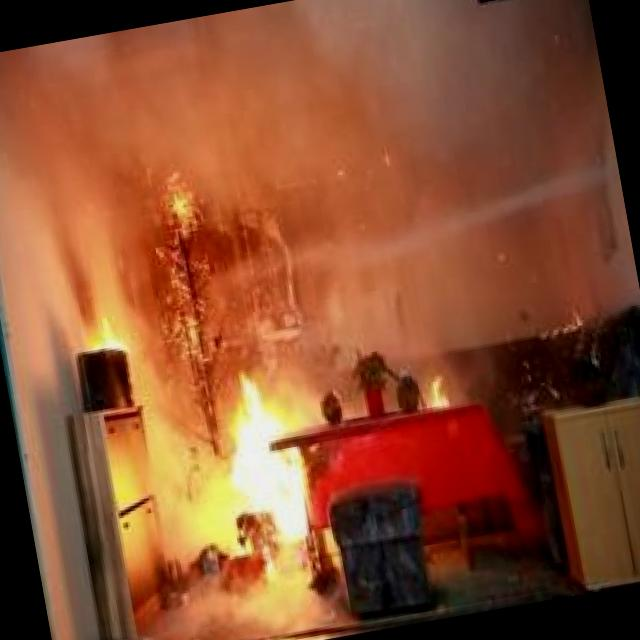fire: (152, 337, 356, 588)
